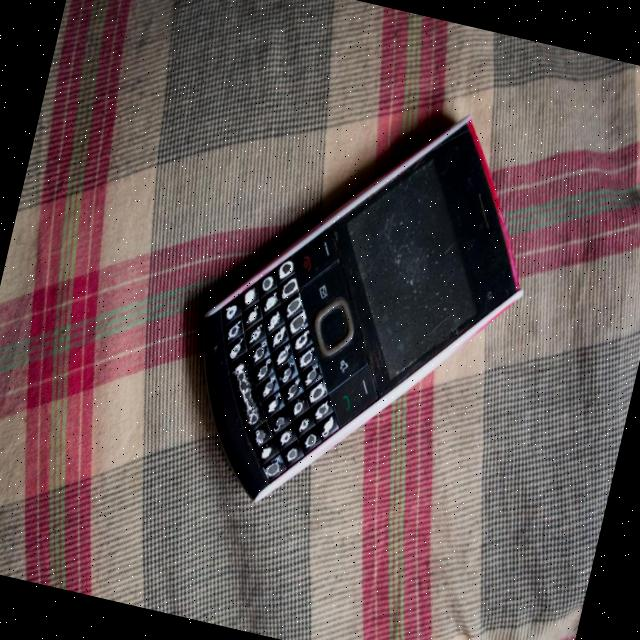Phone: (164, 66, 558, 556)
